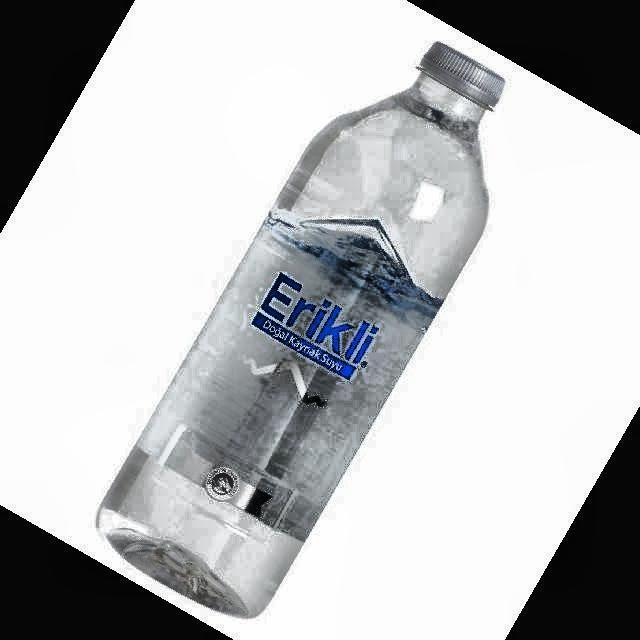plastic: (99, 42, 504, 617)
